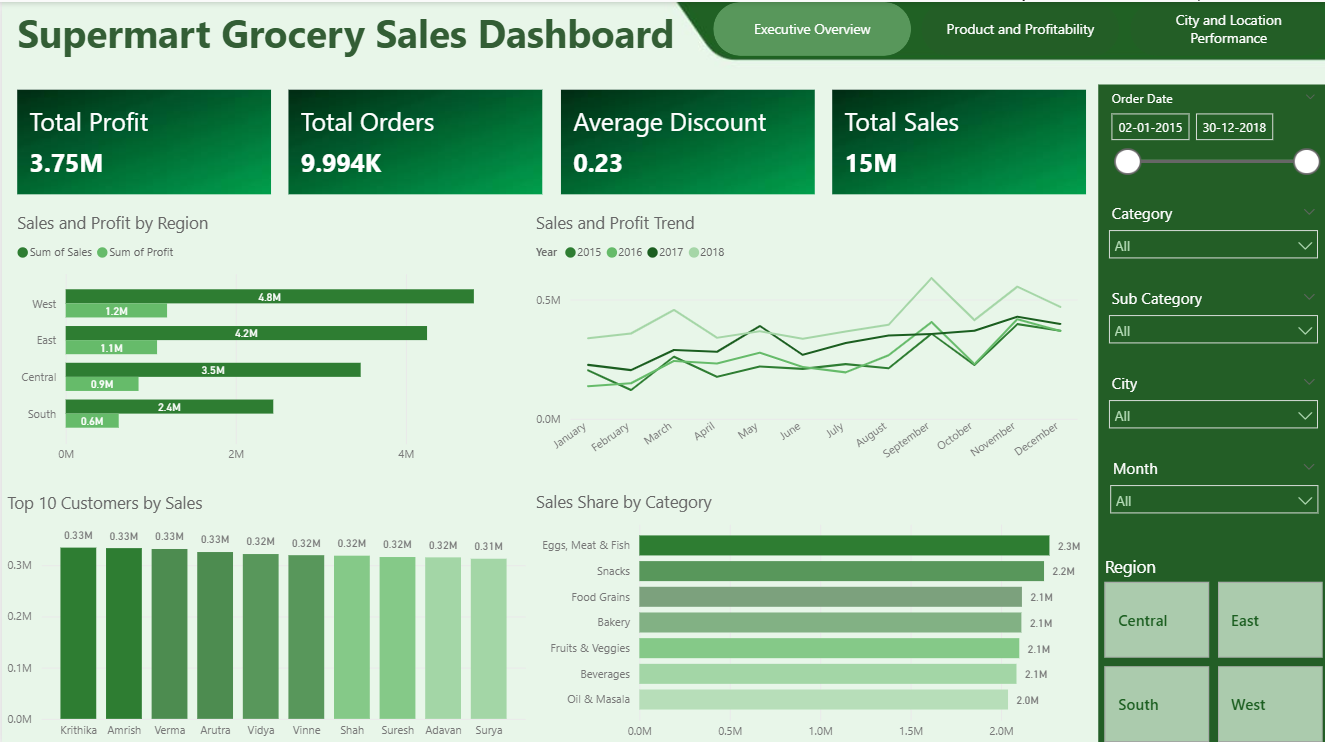

This screenshot's page, from the dashboard's own definition file:
{"tool":"powerbi","page":{"name":"Executive Overview","canvas":[1280,720],"ordinal":0},"visuals":[{"type":"cardVisual","fields":{"Data":["Sum(Sheet1.Sales)"]},"box":[795.7,80,255.7,111.4],"z":0},{"type":"cardVisual","fields":{"Data":["Sum(Sheet1.Profit)"]},"box":[10,80,255.7,111.4],"z":1000},{"type":"cardVisual","fields":{"Data":["Count(Sheet1.Order ID)"]},"box":[271.4,80,255.7,111.4],"z":2000},{"type":"cardVisual","fields":{"Data":["Avg(Sheet1.Discount)"]},"box":[534.3,80,255.7,111.4],"z":3000},{"type":"clusteredBarChart","title":"Sales Share by Category","fields":{"Category":["Sheet1.Category"],"Y":["Sum(Sheet1.Sales)"]},"box":[510,470,548.6,250],"z":4000},{"type":"textbox","box":[1058,79.6,222.3,640.8],"z":5000},{"type":"clusteredBarChart","title":"Sales and Profit by Region","fields":{"Y":["Sum(Sheet1.Sales)","Sum(Sheet1.Profit)"],"Category":["Sheet1.Region"]},"box":[10,201.4,481.4,251.4],"z":6000},{"type":"slicer","fields":{"Values":["Sheet1.Category"]},"box":[1058,187.9,222.3,75.5],"z":7000},{"type":"slicer","fields":{"Values":["Sheet1.Sub Category"]},"box":[1058,270.2,222.3,75.5],"z":8000},{"type":"slicer","fields":{"Values":["Sheet1.City"]},"box":[1058,352.4,222.3,75.5],"z":9000},{"type":"slicer","fields":{"Values":["Sheet1.Order Date"]},"box":[1058,79.6,222.3,101.5],"z":10000},{"type":"lineChart","title":"Sales and Profit Trend ","fields":{"Category":["Sheet1.MONTH name"],"Y":["Sum(Sheet1.Sales)"],"Series":["Sheet1.year"]},"box":[510,201.4,532.9,251.4],"z":11000},{"type":"pageNavigator","box":[686.1,0,594.2,52.1],"z":12000},{"type":"advancedSlicerVisual","fields":{"Values":["Sheet1.Region"]},"box":[1059.4,533.4,220.9,186.6],"z":13000},{"type":"slicer","fields":{"Values":["Sheet1.Month"]},"box":[1059.4,434.7,220.9,91.9],"z":14000},{"type":"columnChart","title":"Top 10 Customers by Sales","fields":{"Category":["Sheet1.Customer Name"],"Y":["Sum(Sheet1.Sales)"]},"box":[0,472,510.5,248.4],"z":15000},{"type":"textbox","box":[9.6,0,676.5,79.6],"z":16000}]}

Visuals, with their boxes in screenshot pixels (x1, y1, x2, y2), scaled from the page's 1280x720 canvas onto the 1325x742 screenshot:
cardVisual - Sum(Sheet1.Sales): (left=824, top=82, right=1088, bottom=197)
cardVisual - Sum(Sheet1.Profit): (left=10, top=82, right=275, bottom=197)
cardVisual - Count(Sheet1.Order ID): (left=281, top=82, right=546, bottom=197)
cardVisual - Avg(Sheet1.Discount): (left=553, top=82, right=818, bottom=197)
"Sales Share by Category" clusteredBarChart: (left=528, top=484, right=1096, bottom=741)
textbox: (left=1095, top=82, right=1324, bottom=741)
"Sales and Profit by Region" clusteredBarChart: (left=10, top=208, right=509, bottom=467)
slicer - Sheet1.Category: (left=1095, top=194, right=1324, bottom=271)
slicer - Sheet1.Sub Category: (left=1095, top=278, right=1324, bottom=356)
slicer - Sheet1.City: (left=1095, top=363, right=1324, bottom=441)
slicer - Sheet1.Order Date: (left=1095, top=82, right=1324, bottom=187)
"Sales and Profit Trend " lineChart: (left=528, top=208, right=1080, bottom=467)
pageNavigator: (left=710, top=0, right=1324, bottom=54)
advancedSlicerVisual - Sheet1.Region: (left=1097, top=550, right=1324, bottom=741)
slicer - Sheet1.Month: (left=1097, top=448, right=1324, bottom=543)
"Top 10 Customers by Sales" columnChart: (left=0, top=486, right=528, bottom=741)
textbox: (left=10, top=0, right=710, bottom=82)
